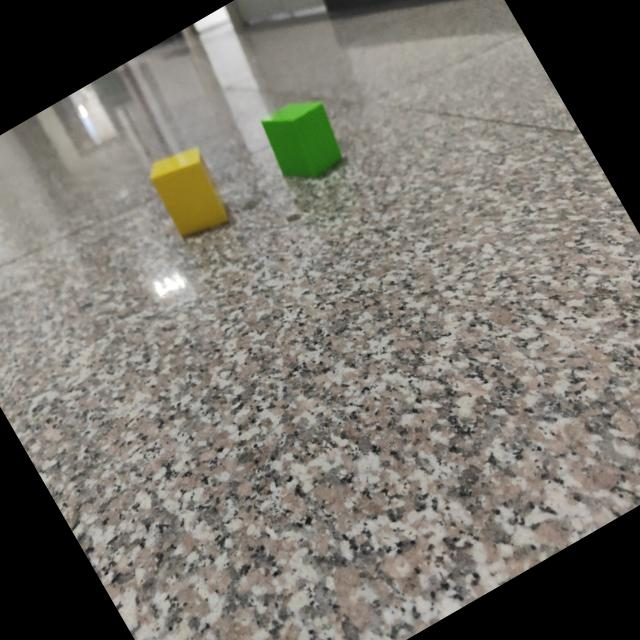green: (263, 101, 346, 181)
yellow: (150, 148, 232, 239)
